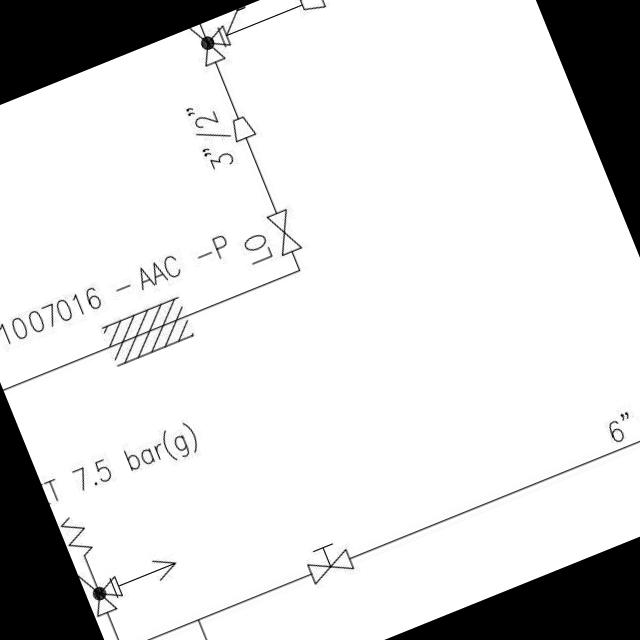GV: (260, 200, 308, 264)
HV: (294, 528, 358, 590)
RPV: (54, 499, 136, 628)
SP: (224, 108, 261, 148), (289, 0, 332, 19)
